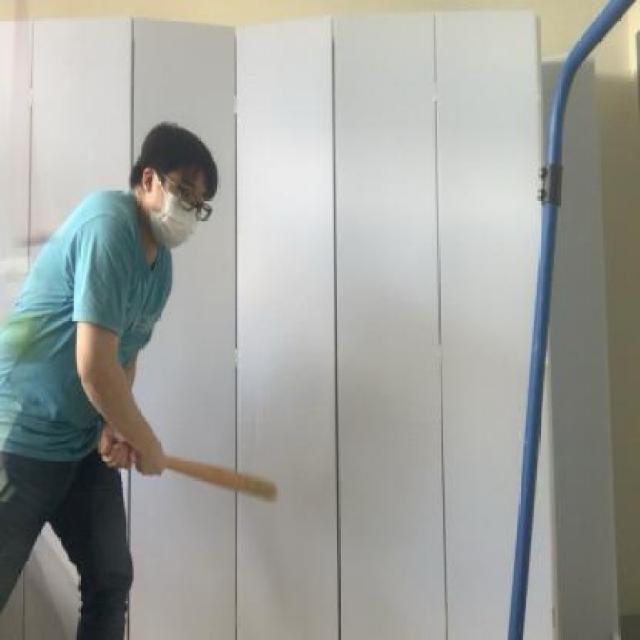baseball: (0, 303, 58, 383)
